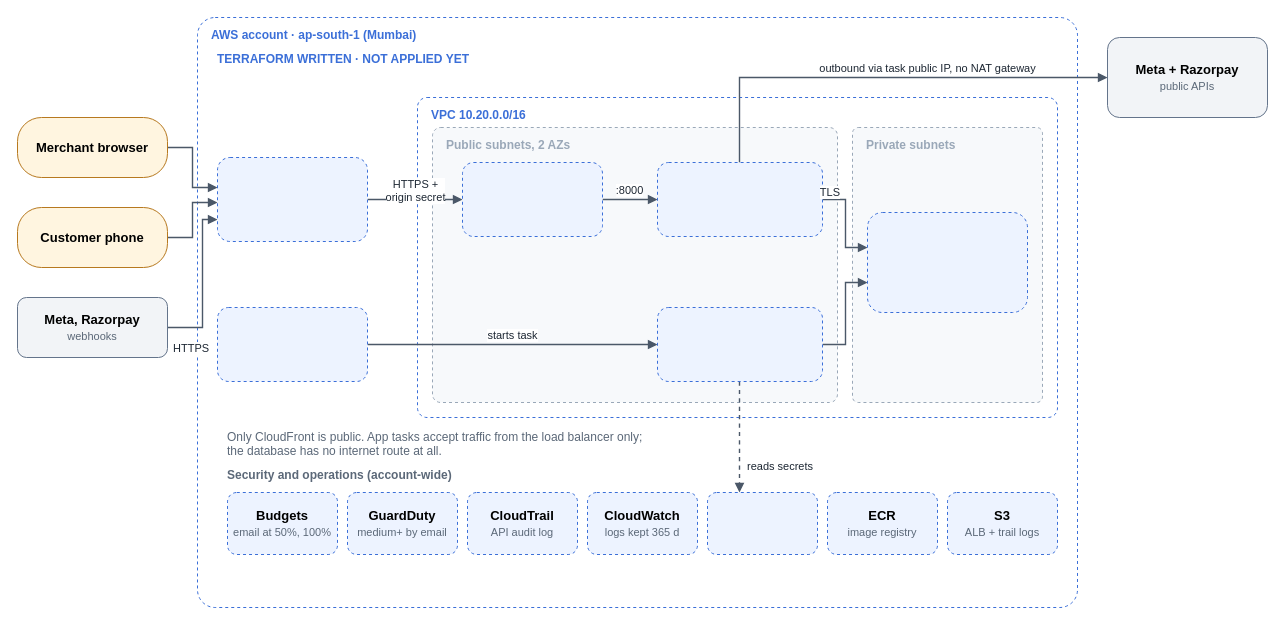
Image size: 1285x625. Some labels were removed from this diagram. The shapes that lost their labels are listed below. From the top down, each one's centre as x and y in pixels, then its label:
[292,199]: CloudFront + WAF HTTPS, HSTS OWASP rules, India only, rate limits
[532,199]: Load balancer CloudFront IPs only needs origin secret
[739,199]: Fargate: web app 0.25 vCPU ARM read-only filesystem
[947,262]: RDS PostgreSQL 16 db.t4g.micro, 1 AZ encrypted, TLS forced 7-day backups + PITR
[292,344]: EventBridge Scheduler 09:30 Asia/Kolkata
[739,344]: Fargate: daily job one-off task run-reminders
[762,523]: SSM Params secrets, encrypted
